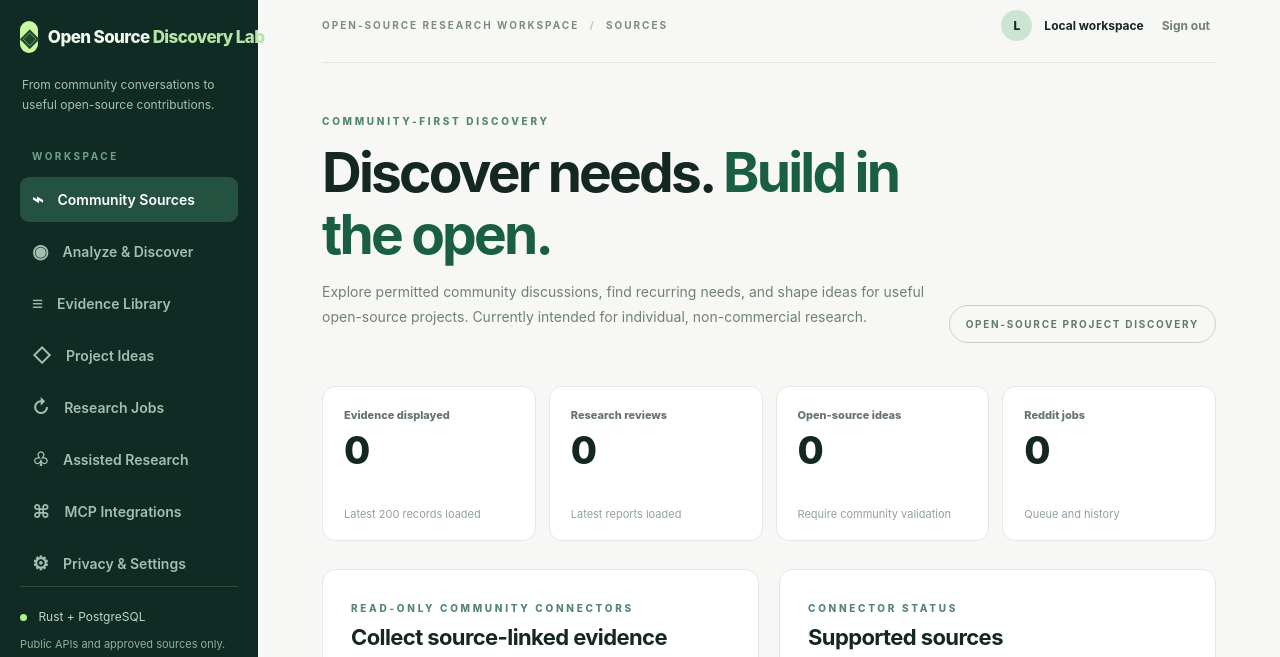
Test: evidence library › renders the empty state when there is no evidence
This screenshot has width=1280, height=657.
Expected: the button "Sign out" is shown, [1156, 16, 1216, 34]
Click the button "≡ Evidence Library". click: (129, 303)
box: [20, 281, 238, 326]
(page scrolled)
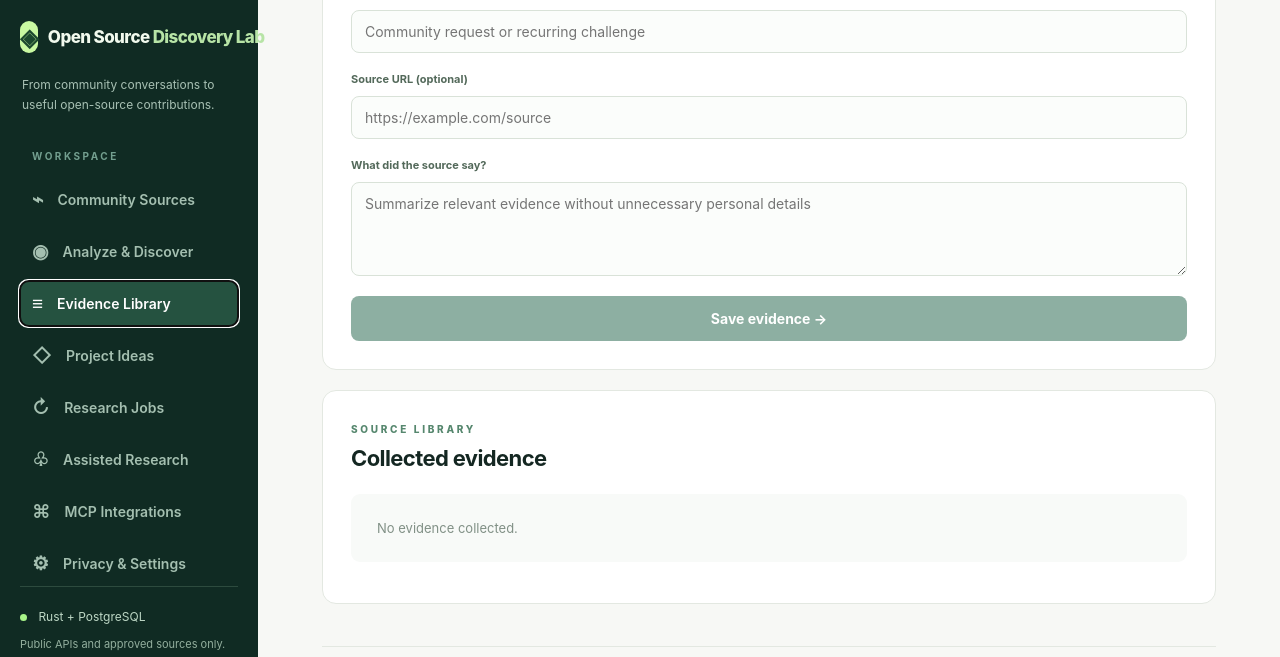
Expected: the text "No evidence collected." is shown, [351, 494, 1187, 562]
